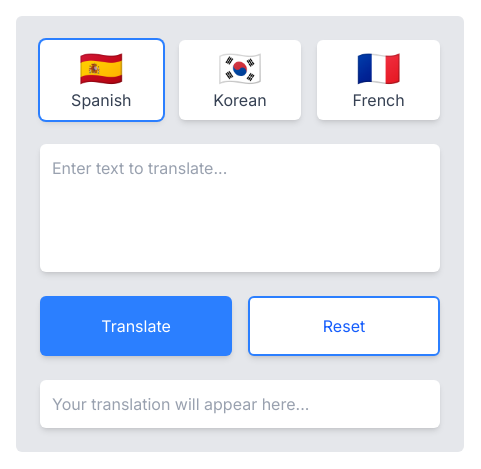
Test case: checks if empty Translate submit shows message
Click the button "Translate" at (136, 326), box [40,296,232,356]
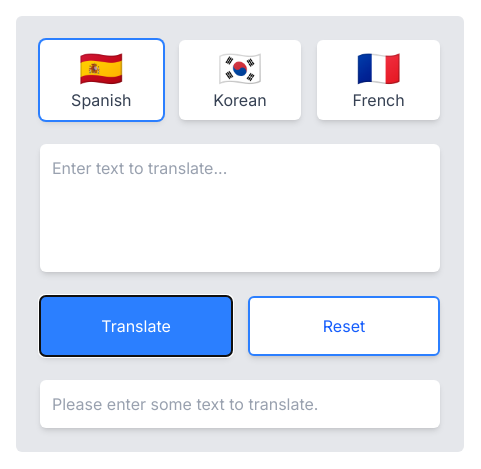
Check: the text "Please enter some text to translate." is shown, box [52,394,318,414]
